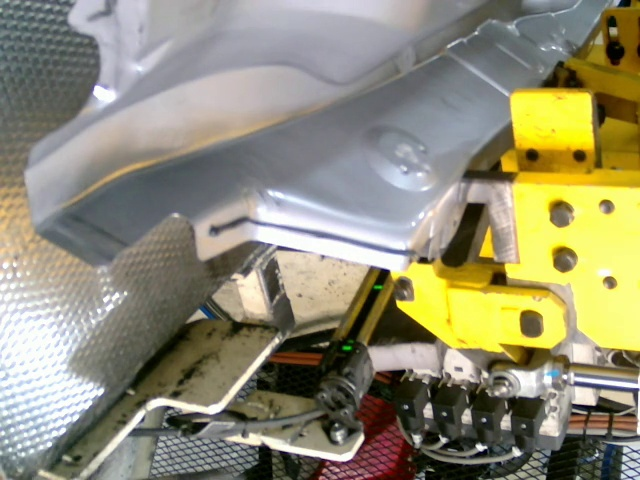line: (206, 213, 419, 259)
